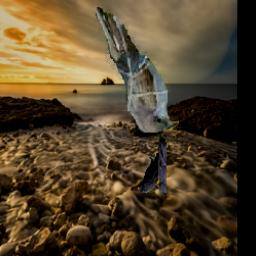Crow: (138, 134, 167, 193)
Cuckoo: (95, 8, 178, 134)
